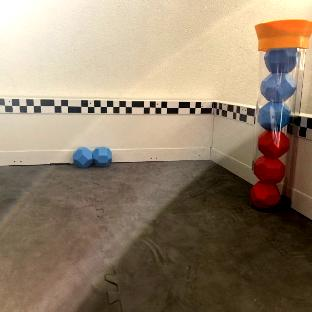V5_BLUE: (261, 72, 294, 100), (74, 147, 112, 168), (259, 102, 289, 128)
V5_RED: (258, 131, 289, 158), (254, 156, 285, 183), (251, 182, 279, 206)
